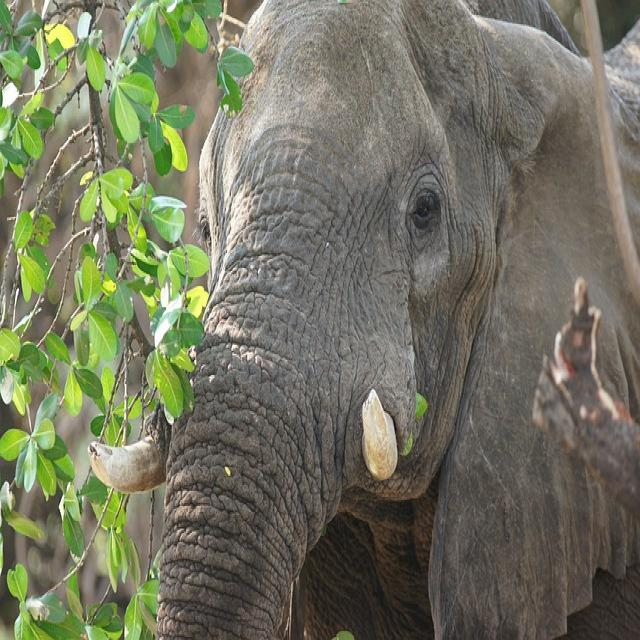elephant: (159, 2, 640, 638)
